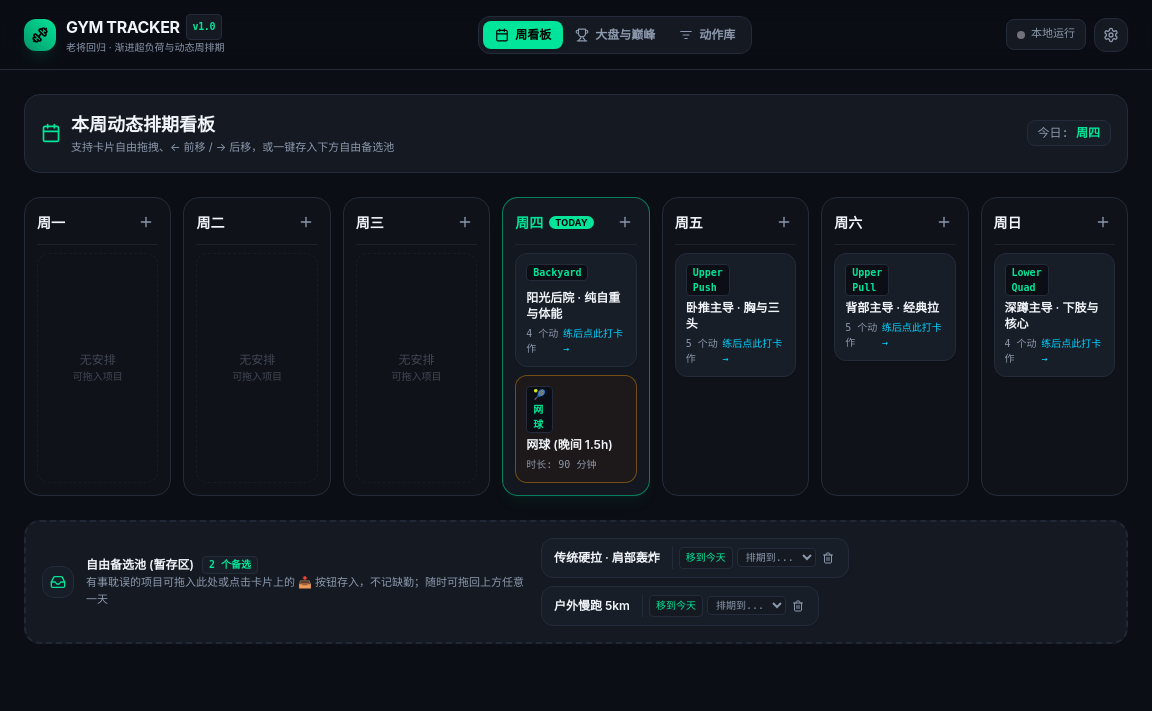
App: exercise library weight input › restores the previous weight when the field is left empty
Click the button "动作库" at (707, 34), box [667,20,747,48]
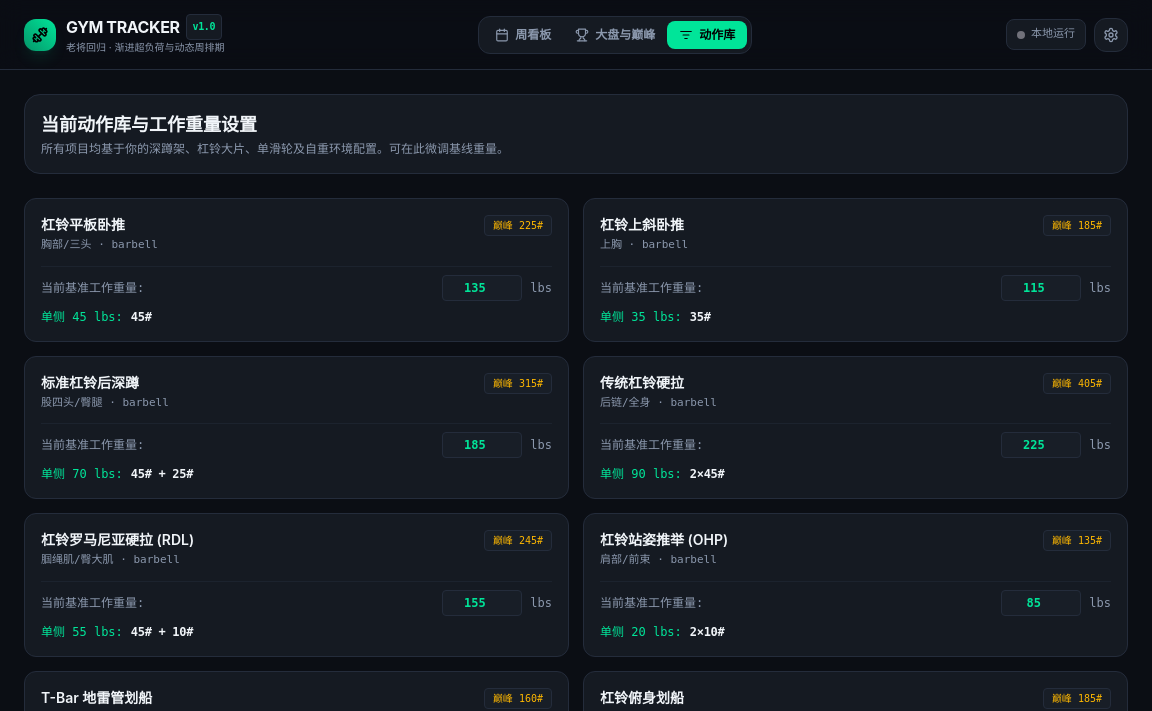
Clear the number field below "225" at (482, 288), box [442,274,522,300]
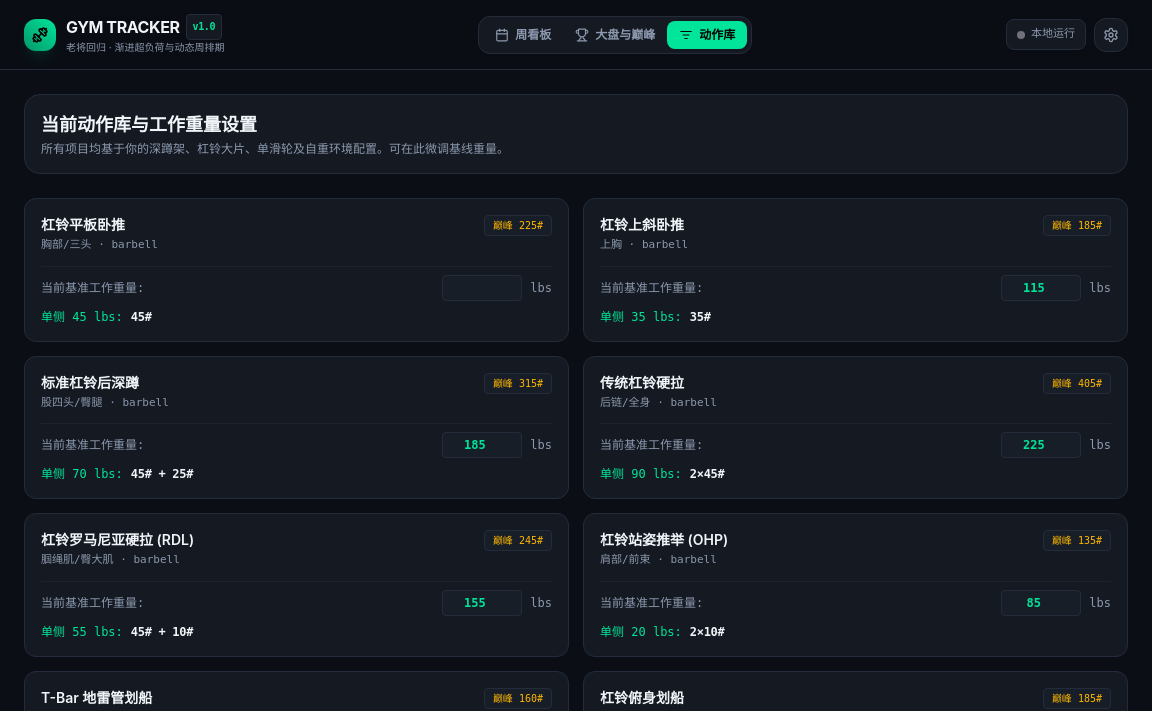
Leave the number field below "225", box [442,274,522,300]
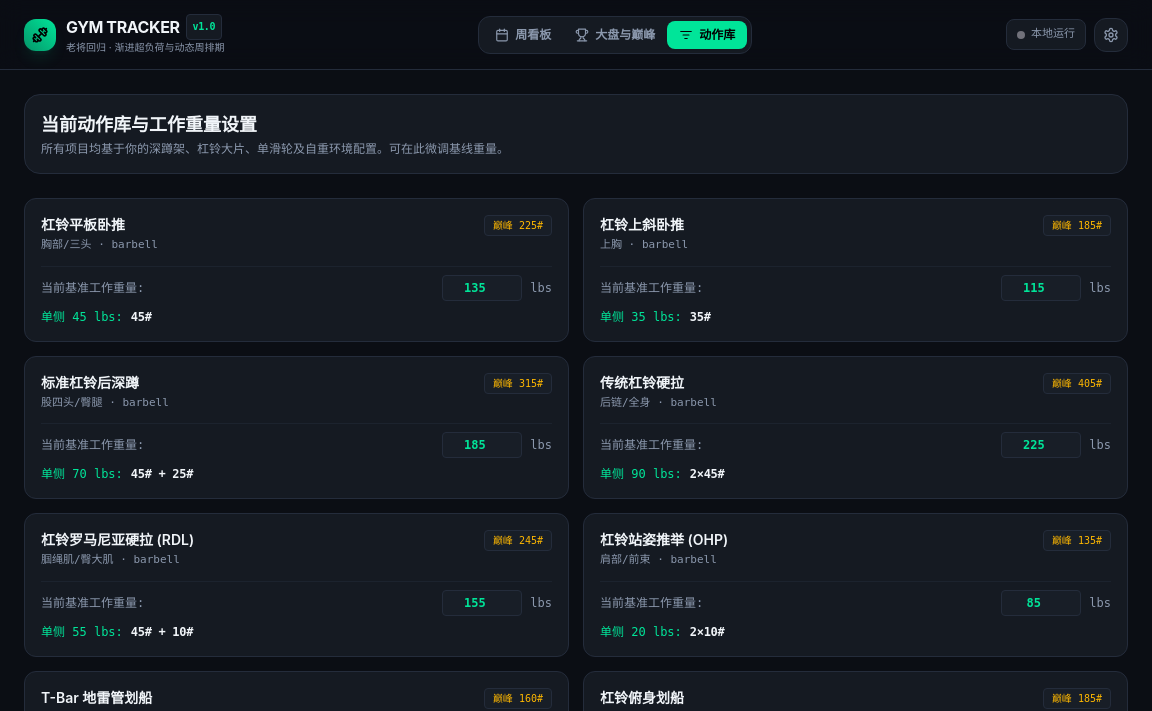
Now the number field below "225" holds "135", box [442,274,522,300]
